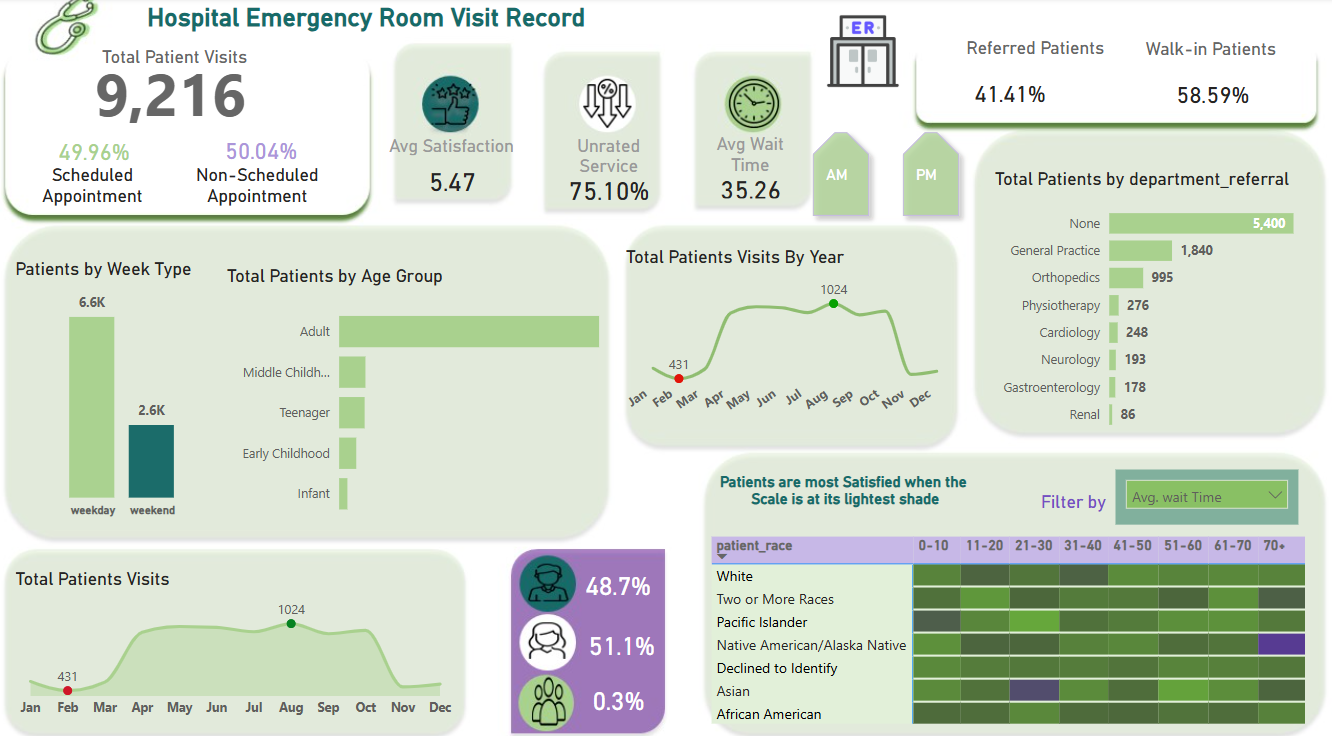

What the dashboard file says about the page in this screenshot:
{"tool":"powerbi","page":{"name":"Page 1","canvas":[1280,720],"ordinal":0},"visuals":[{"type":"card","fields":{"Values":["Calculations.Total Patients"]},"box":[57.3,50.9,219.5,76.3],"z":0},{"type":"card","fields":{"Values":["Calculations.% None - Administrative Schedule"]},"box":[31.8,120.9,125.7,54.1],"z":1000},{"type":"pivotTable","fields":{"Values":["Calculations.Average wait Time"],"Rows":["Patients Clinical Dataset.patient_race"],"Columns":["Patients Clinical Dataset.Age Brackets"]},"box":[679.4,510,581.9,195],"z":2000},{"type":"slicer","fields":{"Values":["Parameter.Parameter"]},"box":[1070.5,451.7,175,52.5],"z":3000},{"type":"clusteredBarChart","fields":{"Category":["Patients Clinical Dataset.department_referral"],"Y":["Calculations.Total Patients"]},"box":[949.6,163.8,330.8,260.9],"z":4000},{"type":"areaChart","title":"Total Patients Visits","fields":{"Category":["Date.Month"],"Y":["Calculations.Total Patients","Calculations.Value Max Point (Month)"]},"box":[14,545.9,429.6,150.4],"z":5000},{"type":"lineChart","title":"Total Patients Visits By Year","fields":{"Category":["Date.Month"],"Y":["Calculations.Total Patients","Calculations.Value Max Point (Month)"]},"box":[597.9,238.2,316.5,177.5],"z":6000},{"type":"card","fields":{"Values":["Calculations.% Referred Patients"]},"box":[914.6,79.5,108.2,41.4],"z":7000},{"type":"card","fields":{"Values":["Calculations.% Self-Referred Patients"]},"box":[1105.5,79.5,112.9,41.4],"z":8000},{"type":"card","fields":{"Values":["Calculations.Hit Map Caption"]},"box":[672.8,424.7,276.8,95.4],"z":9000},{"type":"textbox","box":[30.2,154.3,125.7,50.9],"z":10000},{"type":"textbox","box":[175,154.3,151.1,50.9],"z":11000},{"type":"card","title":"Avg Satisfaction","fields":{"Values":["Calculations.Average Satisfaction Score"]},"box":[368.6,132.3,135.5,67.7],"z":12000},{"type":"card","title":"Unrated Service","fields":{"Values":["Calculations.% No Rating"]},"box":[534.4,132,103.4,66.8],"z":13000},{"type":"card","title":"Avg Wait Time","fields":{"Values":["Calculations.Average wait Time"]},"box":[679.2,130.4,84.3,66.8],"z":14000},{"type":"textbox","box":[915.1,33.1,155.9,37.8],"z":15000},{"type":"textbox","box":[1091.4,40.5,144.1,55.1],"z":16000},{"type":"clusteredColumnChart","title":"Patients by Week Type","fields":{"Y":["Calculations.Total Patients"],"Category":["Date.Weektype"]},"box":[14.3,249.7,214.7,254.5],"z":17000},{"type":"advancedSlicerVisual","fields":{"Values":["Patients Clinical Dataset.Time_Shift"]},"box":[763.5,111.7,260.7,114.6],"z":18000},{"type":"card","fields":{"Values":["Calculations.% Female Visit"]},"box":[550.4,526.5,89.1,68.4],"z":19000},{"type":"card","fields":{"Values":["Calculations.% Male Visit"]},"box":[550.4,594.9,95.4,49.3],"z":20000},{"type":"card","fields":{"Values":["Calculations.% Unclear"]},"box":[531.3,644.2,127.2,52.5],"z":21000},{"type":"clusteredBarChart","fields":{"Y":["Calculations.Total Patients"],"Category":["Patients Clinical Dataset.Age Group"]},"box":[215.8,255.8,396.5,254.2],"z":22000},{"type":"card","fields":{"Values":["Calculations.% Administrative Schedule"]},"box":[212.6,96.1,113.4,48.8],"z":23000},{"type":"textbox","box":[81.1,41.4,179.7,49.3],"z":24000},{"type":"textbox","box":[967.2,466.8,126.3,51.2],"z":25000},{"type":"textbox","box":[121.5,0,465.2,40],"z":26000},{"type":"image","box":[787.3,0,81.9,102.8],"z":27000}]}

Visuals, with their boxes in screenshot pixels (x1, y1, x2, y2), scaled from the page's 1280x720 canvas onto the 1332x736 screenshot:
card - Calculations.Total Patients: x1=60, y1=52, x2=288, y2=130
card - Calculations.% None - Administrative Schedule: x1=33, y1=124, x2=164, y2=179
pivotTable - Calculations.Average wait Time x Patients Clinical Dataset.patient_race: x1=707, y1=521, x2=1313, y2=721
slicer - Parameter.Parameter: x1=1114, y1=462, x2=1296, y2=515
clusteredBarChart - Patients Clinical Dataset.department_referral x Calculations.Total Patients: x1=988, y1=167, x2=1331, y2=434
"Total Patients Visits" areaChart: x1=15, y1=558, x2=462, y2=712
"Total Patients Visits By Year" lineChart: x1=622, y1=243, x2=952, y2=425
card - Calculations.% Referred Patients: x1=952, y1=81, x2=1064, y2=124
card - Calculations.% Self-Referred Patients: x1=1150, y1=81, x2=1268, y2=124
card - Calculations.Hit Map Caption: x1=700, y1=434, x2=988, y2=532
textbox: x1=31, y1=158, x2=162, y2=210
textbox: x1=182, y1=158, x2=339, y2=210
"Avg Satisfaction" card: x1=384, y1=135, x2=525, y2=204
"Unrated Service" card: x1=556, y1=135, x2=664, y2=203
"Avg Wait Time" card: x1=707, y1=133, x2=795, y2=202
textbox: x1=952, y1=34, x2=1115, y2=72
textbox: x1=1136, y1=41, x2=1286, y2=98
"Patients by Week Type" clusteredColumnChart: x1=15, y1=255, x2=238, y2=515
advancedSlicerVisual - Patients Clinical Dataset.Time_Shift: x1=795, y1=114, x2=1066, y2=231
card - Calculations.% Female Visit: x1=573, y1=538, x2=665, y2=608
card - Calculations.% Male Visit: x1=573, y1=608, x2=672, y2=659
card - Calculations.% Unclear: x1=553, y1=659, x2=685, y2=712
clusteredBarChart - Calculations.Total Patients x Patients Clinical Dataset.Age Group: x1=225, y1=261, x2=637, y2=521
card - Calculations.% Administrative Schedule: x1=221, y1=98, x2=339, y2=148
textbox: x1=84, y1=42, x2=271, y2=93
textbox: x1=1006, y1=477, x2=1138, y2=530
textbox: x1=126, y1=0, x2=611, y2=41
image: x1=819, y1=0, x2=905, y2=105
